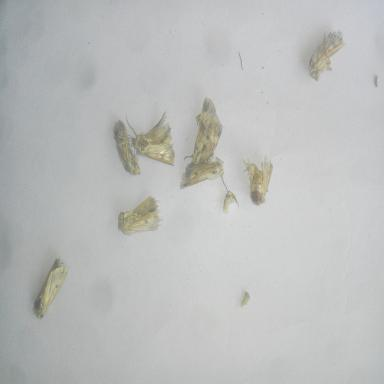abw: (123, 106, 179, 168), (182, 92, 226, 166), (30, 252, 72, 323), (176, 150, 229, 199), (306, 24, 348, 85), (115, 191, 165, 242), (238, 145, 276, 209), (110, 114, 143, 179)
